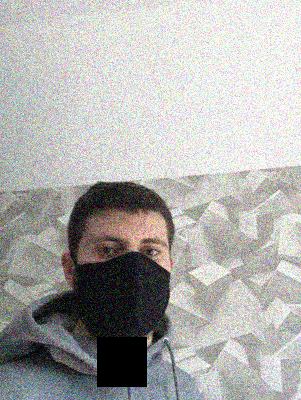with_mask: (74, 224, 170, 346)
